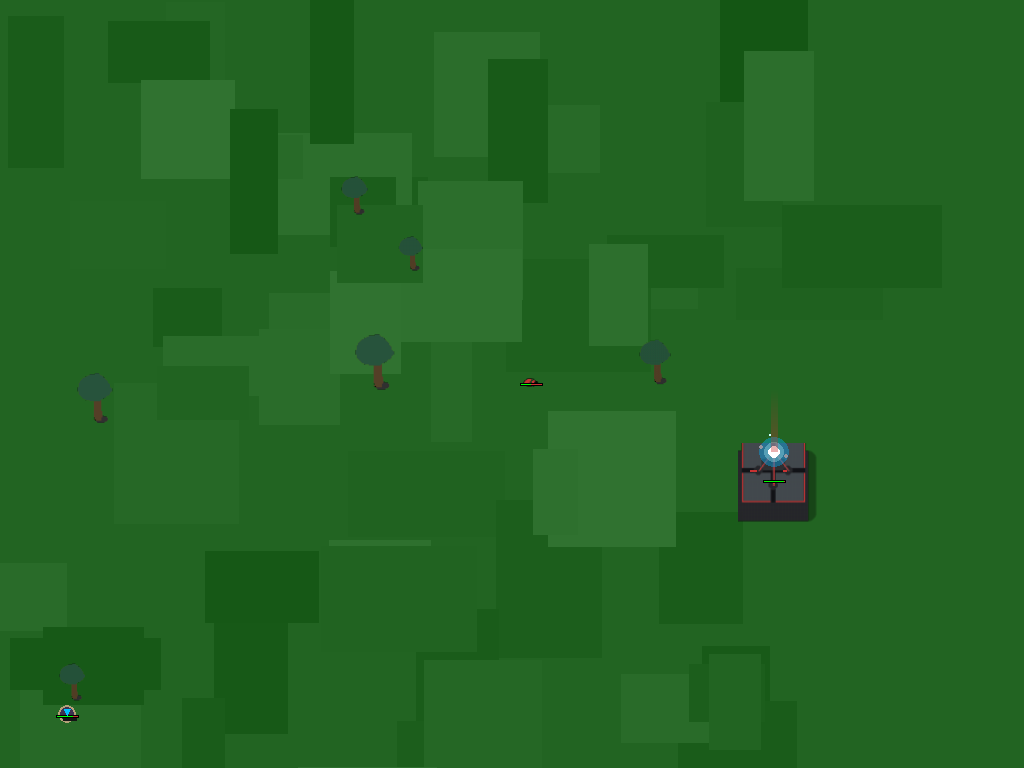ResearchCenter: (732, 437, 804, 519)
RocketTrooper: (51, 698, 83, 730)
Sniper: (515, 366, 545, 396)
